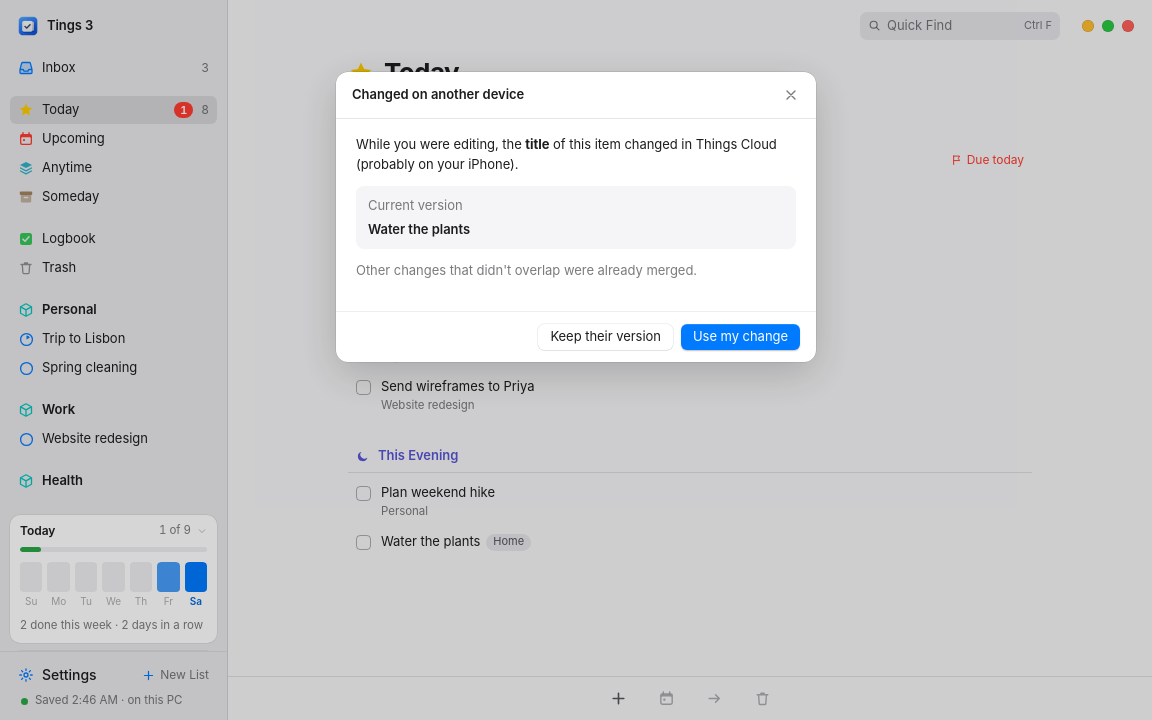
Test: App › routes conflicts to a dialog that can overwrite explicitly
Check: the heading "Today" is shown, box [384,58,459,88]
Check: the text "title" is shown, box [525,136,550,152]
Click the button "Use my change" at (740, 336), box [681,324,800,350]
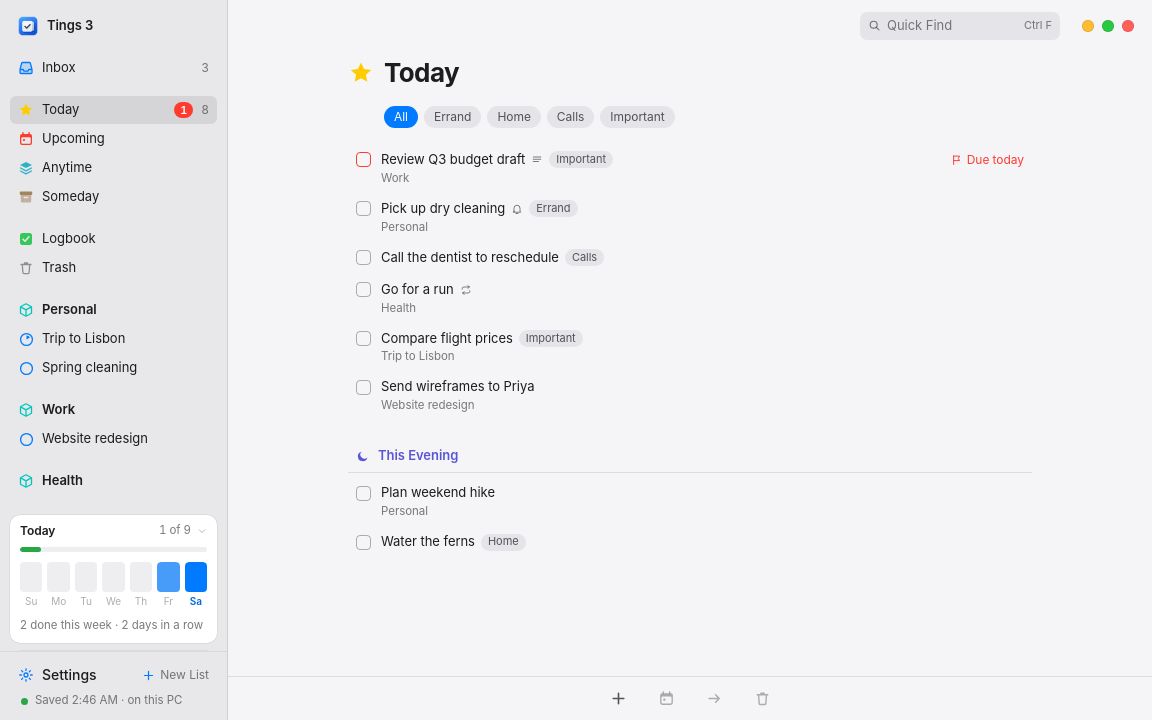
Check: the text "Water the ferns" is shown, box [381,533,475,551]
